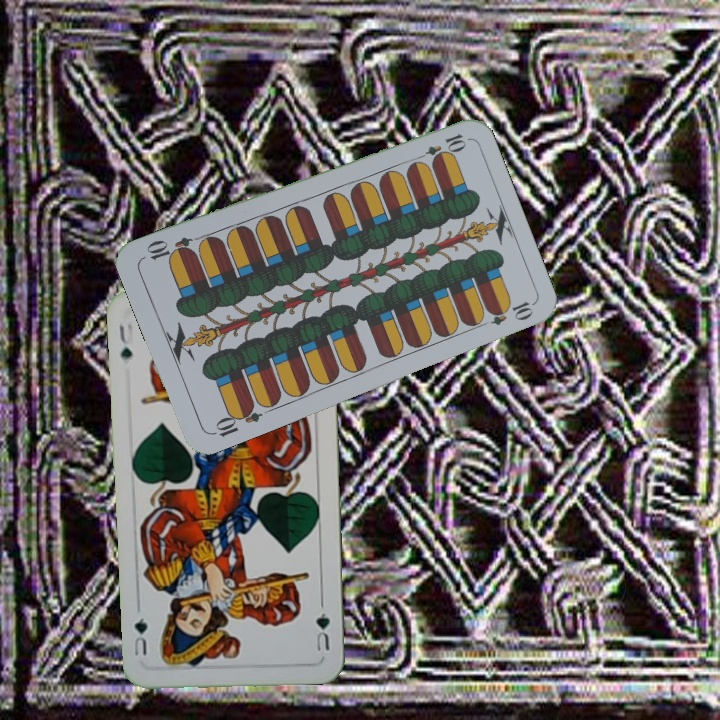E10: (207, 400, 264, 440), (411, 129, 469, 165)
GU: (115, 317, 136, 361), (312, 608, 332, 654)
